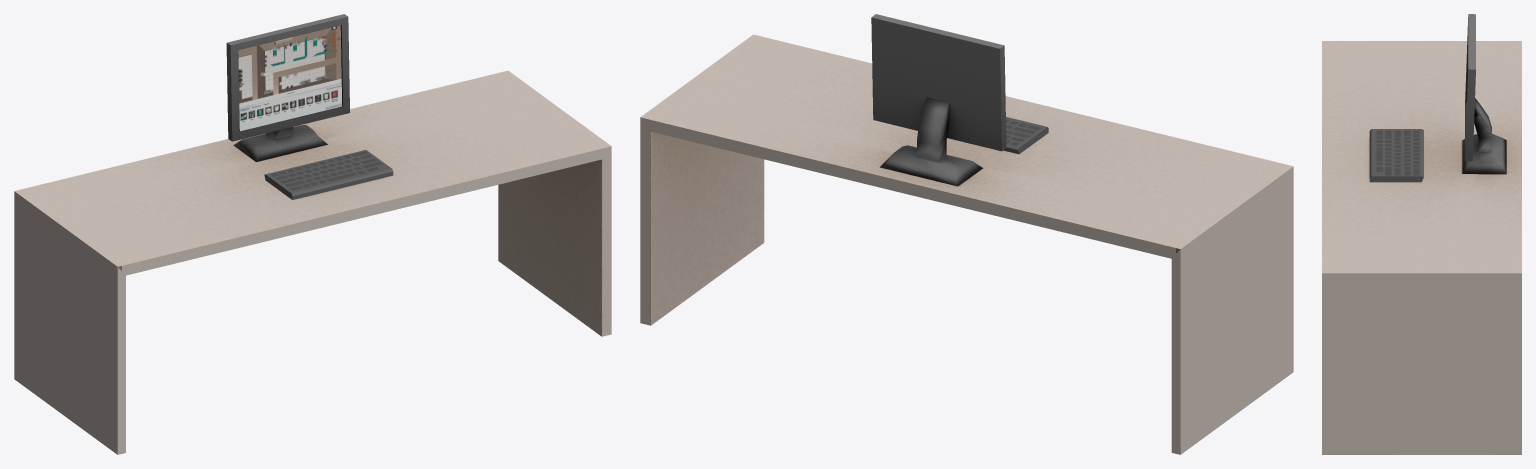
File: mesh_desk.obj
3 renders of one model, left to right at view 1: azimuth 30°, elevation 25°; view 2: azimuth 150°, elevation 25°; view 3: azimuth 270°, elevation 25°, orthographic. The views are drawn at different scales.
Parts seen in each view (by area): view 1: Cube.034_Cube.007, Cube.001; view 2: Cube.034_Cube.007, Cube.001; view 3: Cube.034_Cube.007, Cube.001.
Boxes of the visible parts, x1,y1,x2,y2 form: Cube.034_Cube.007: [14, 14, 611, 454]; Cube.001: [233, 125, 393, 199]; Cube.034_Cube.007: [640, 14, 1293, 454]; Cube.001: [880, 97, 1048, 186]; Cube.034_Cube.007: [1322, 14, 1521, 454]; Cube.001: [1369, 98, 1506, 182].
Size of the model in its own units: 7.84 by 4.67 by 2.84.
